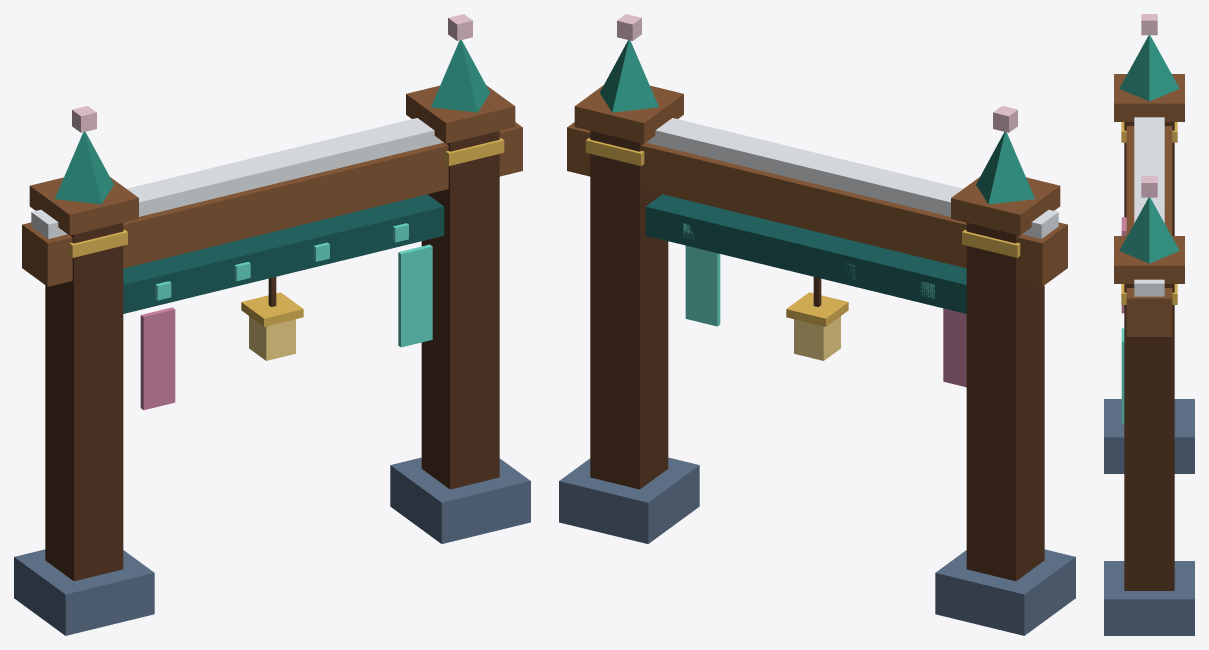
The model's file is bld_gate.glb.
3 views of the same model, side by side, from view 1: azimuth 30°, elevation 25°; view 2: azimuth 150°, elevation 25°; view 3: azimuth 270°, elevation 25° (orthographic). The views are drawn at different scales.
Visible parts, largest first — view 1: bld_gate; view 2: bld_gate; view 3: bld_gate.
Boxes of the visible parts, x1,y1,x2,y2 form: bld_gate: [14, 14, 530, 635]; bld_gate: [559, 14, 1075, 635]; bld_gate: [1104, 14, 1194, 635].
Size of the model in its own units: 4.8 by 4.78 by 0.9.
1 material, 1 textured.
